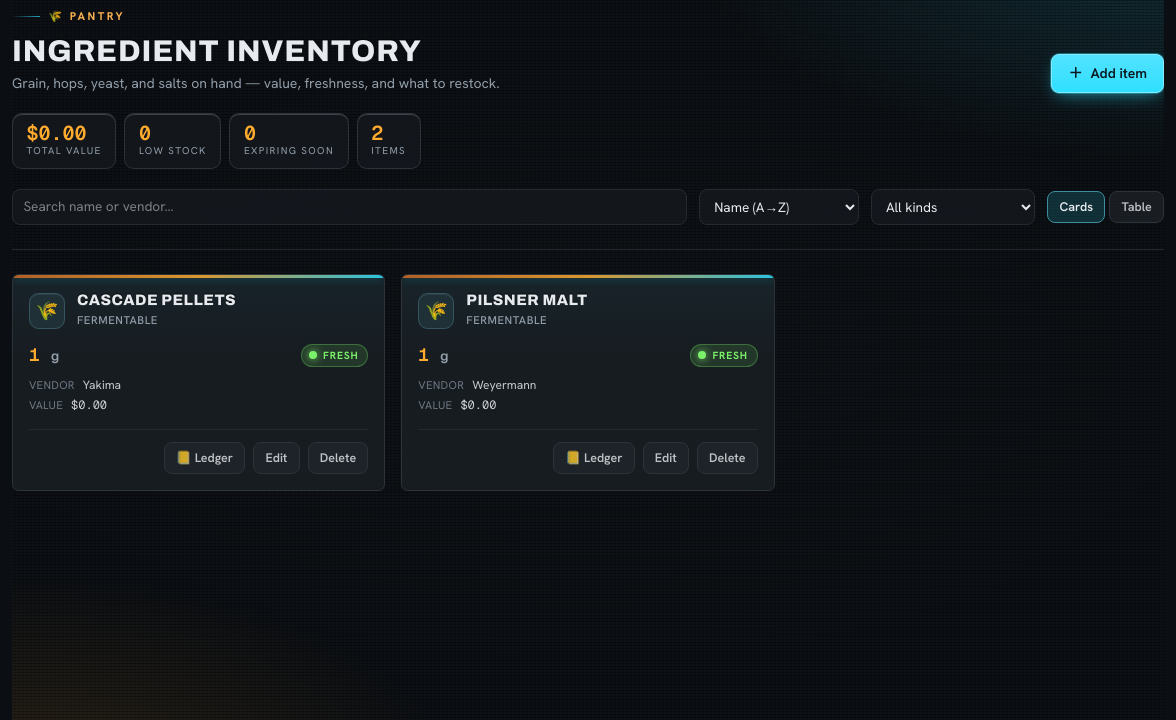
Test case: InventoryView › filters by search across name and vendor
Expected: the heading "Cascade pellets" is shown, 77,292 -> 236,308
Type "weyermann" into the search field named "Search by name or vendor" at coordinates (349, 207), box 12,189 -> 687,225
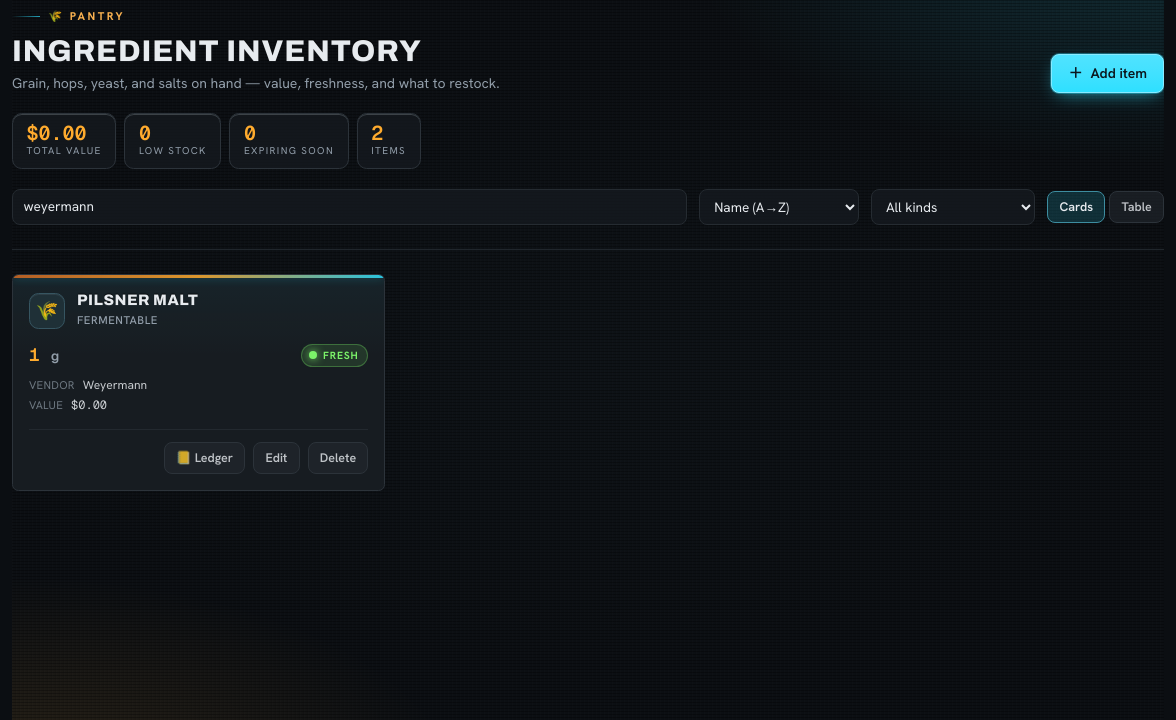
Expected: the heading "Pilsner malt" is shown, 77,292 -> 198,308
Expected: the heading "Cascade pellets" is gone
